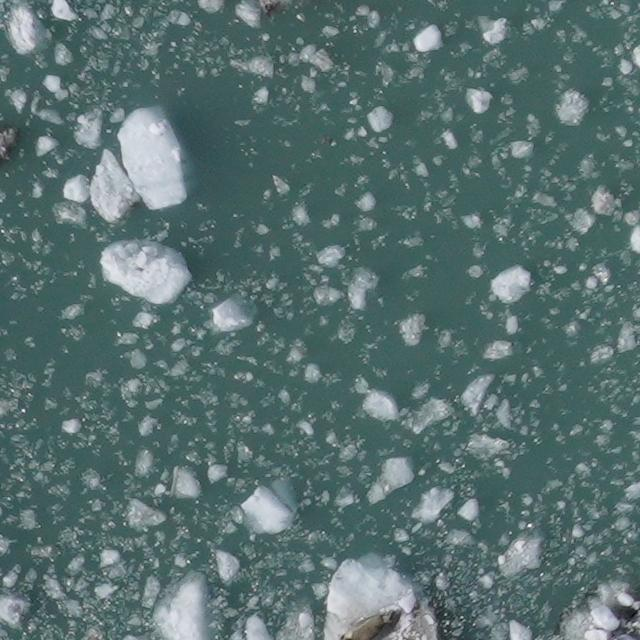seal: (332, 606, 403, 640)
